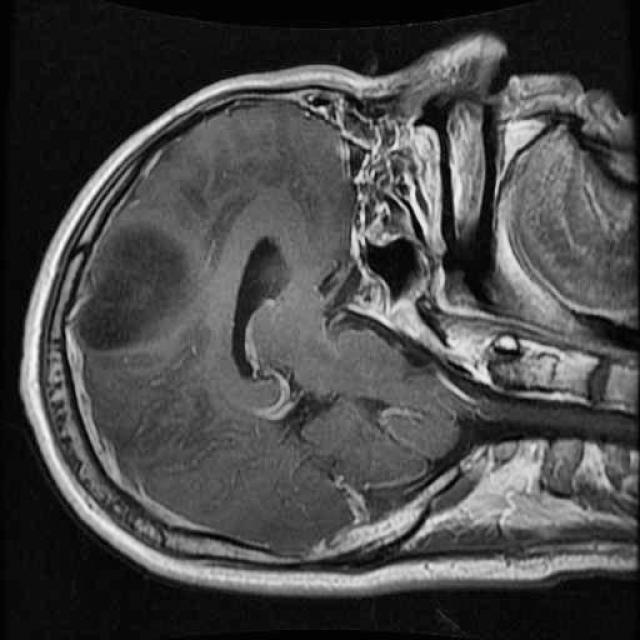Tumor: (72, 202, 208, 362)
